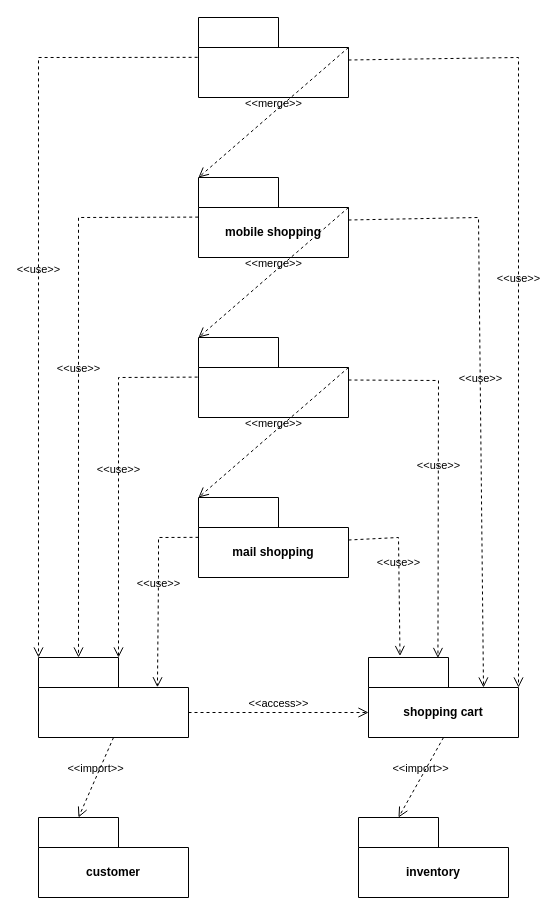
Some shapes in this 557 by 915 pixel diagram are drawn without their labels. The centre of each missing label's shape, as x and y in pixels:
payment: the point at 113,697
phone shopping: the point at 273,377
web shopping: the point at 273,57
